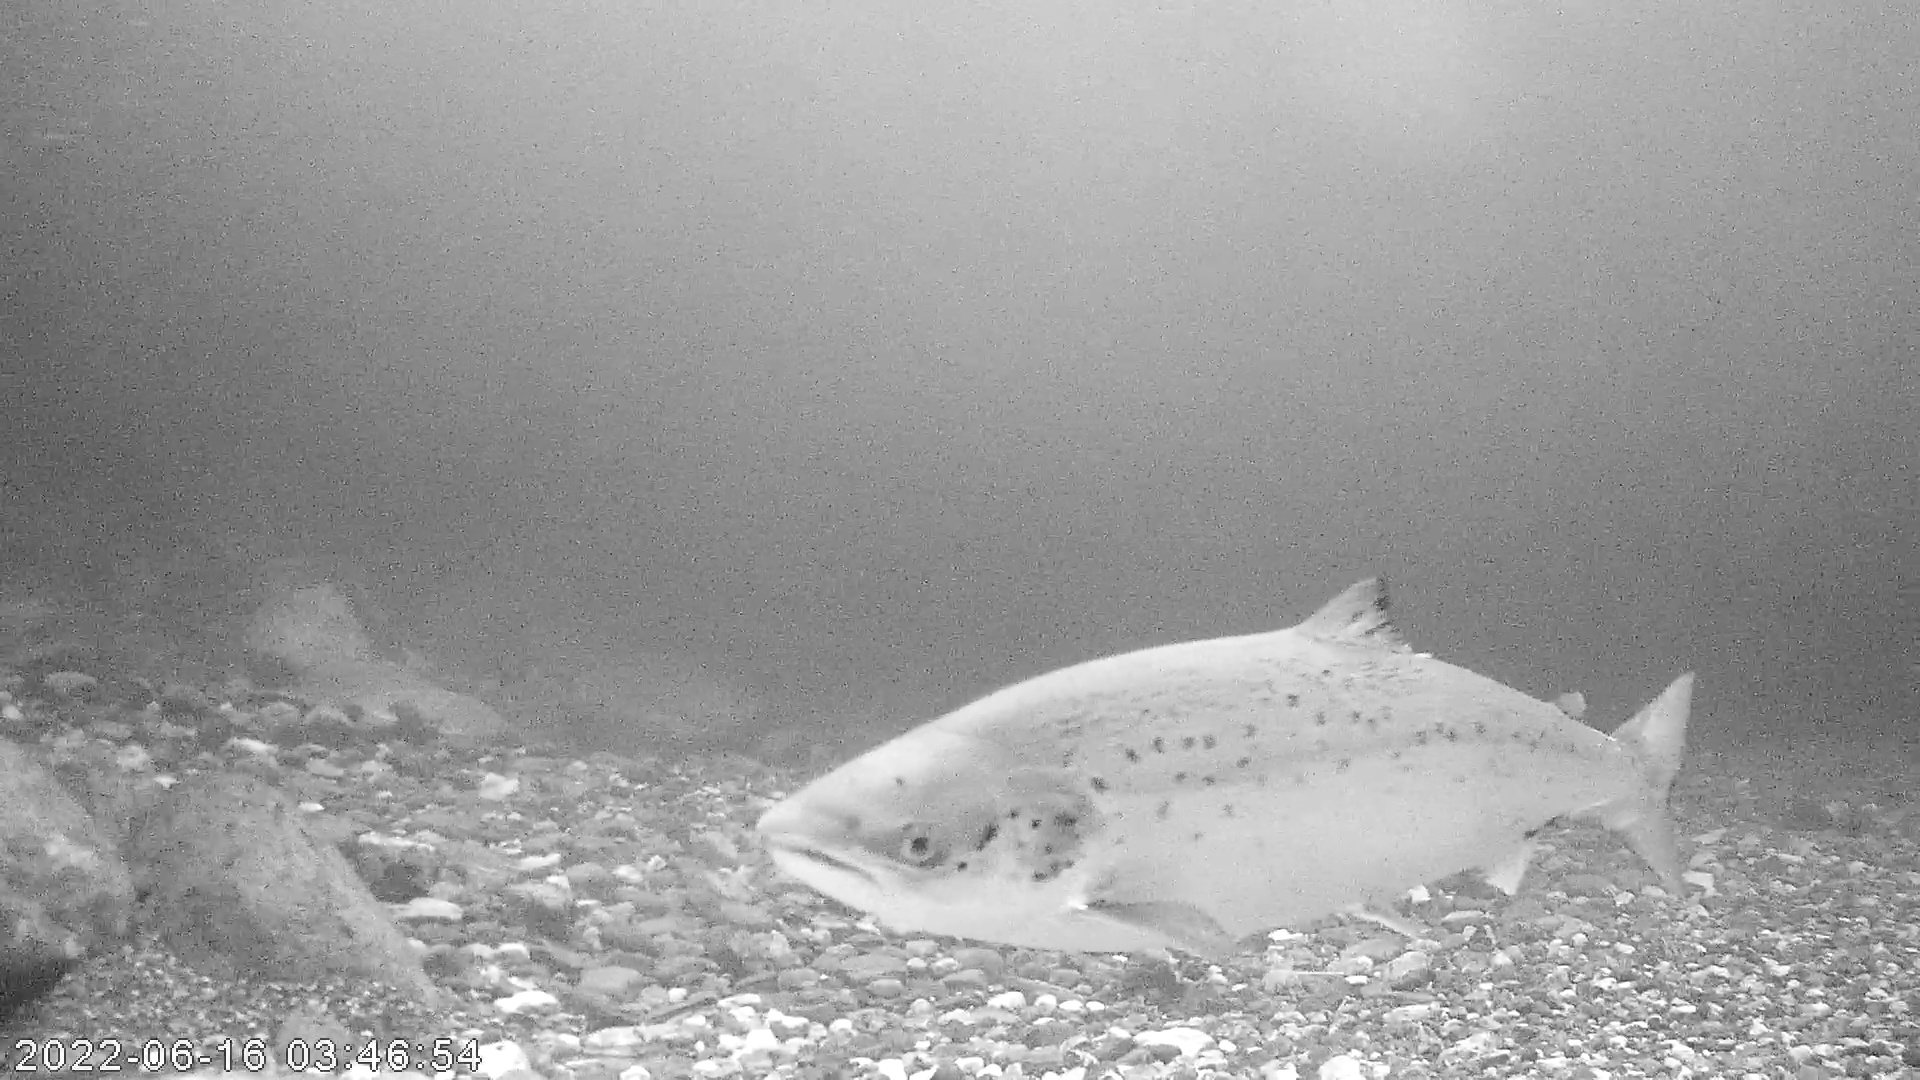salmon: (760, 574, 1702, 960)
